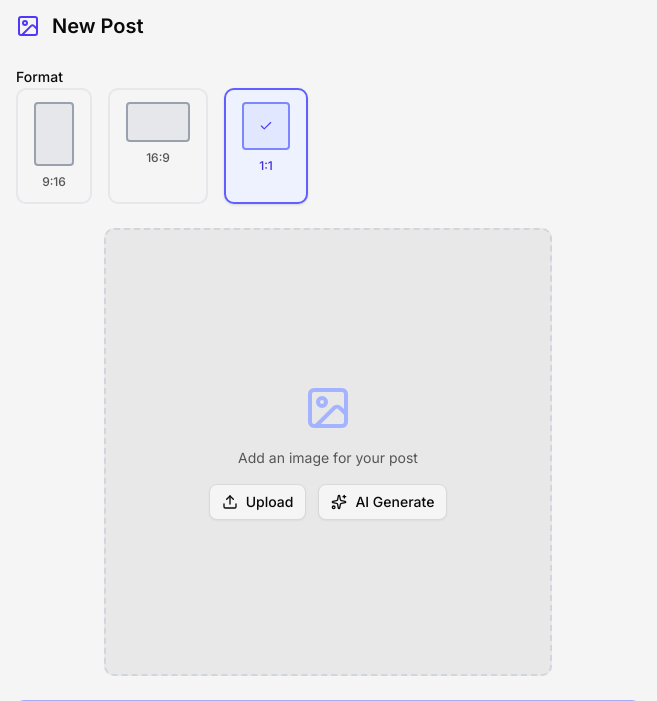
Test: CreatePostPage › shows AI prompt textarea when AI Generate is clicked
Click the button "AI Generate" at (383, 502), box [318,484,447,520]
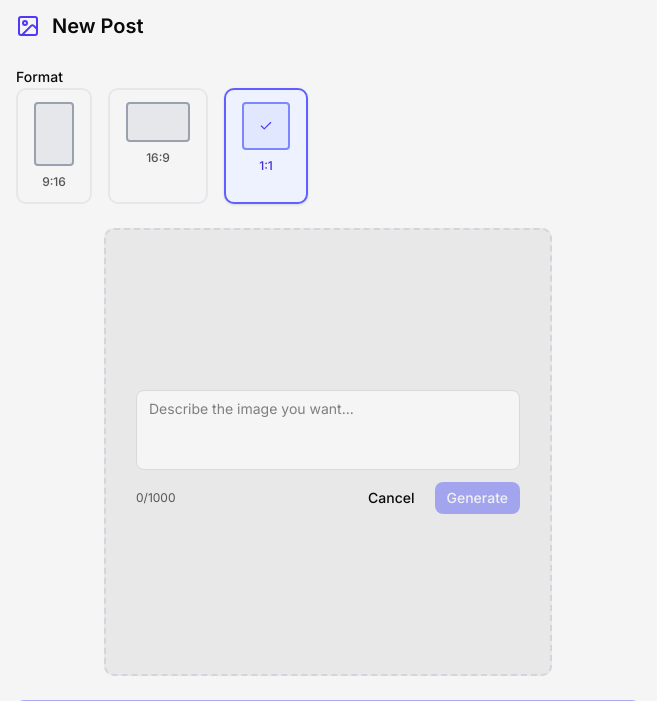
Expected: the button "Generate" is shown, [434,482,520,514]
Expected: the text box with placeholder "Describe the image you want..." is shown, [136,390,520,470]
Expected: the button "Cancel" is shown, [356,482,426,514]
